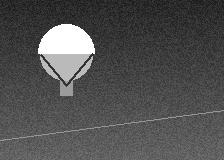helmet: (38, 24, 94, 85)
